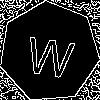W: (24, 27, 77, 79)
